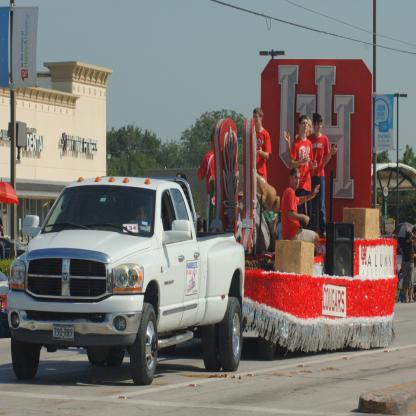car: (8, 178, 244, 384)
